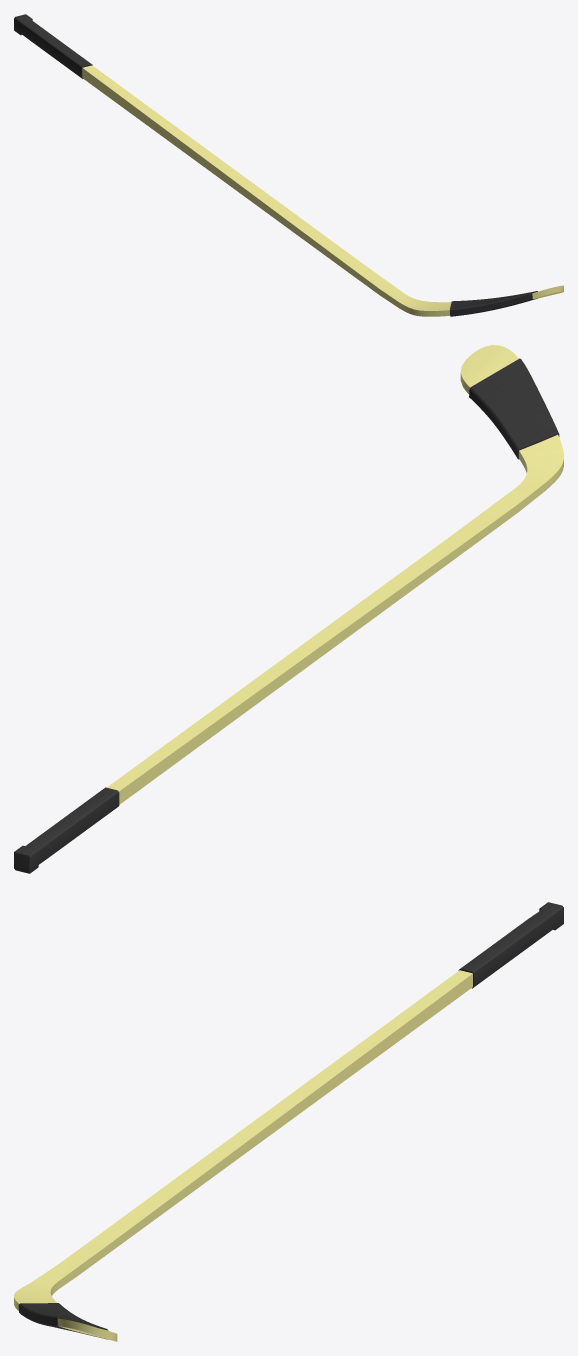
The model's file is UNRIGGED_FEMC_SkaterStick.fbx.
The picture shows the model from 3 angles, top to bottom: view 1: azimuth 30°, elevation 25°; view 2: azimuth 150°, elevation 25°; view 3: azimuth 330°, elevation 25°; orthographic projection. The views are drawn at different scales.
Parts seen in each view (by area): view 1: Skater; view 2: Skater; view 3: Skater.
Part boxes in pixels (<box>): Skater: <box>14,14,563,316</box>; Skater: <box>14,345,563,873</box>; Skater: <box>14,902,563,1341</box>.
Size of the model in its own units: 24.38 by 9.95 by 168.
